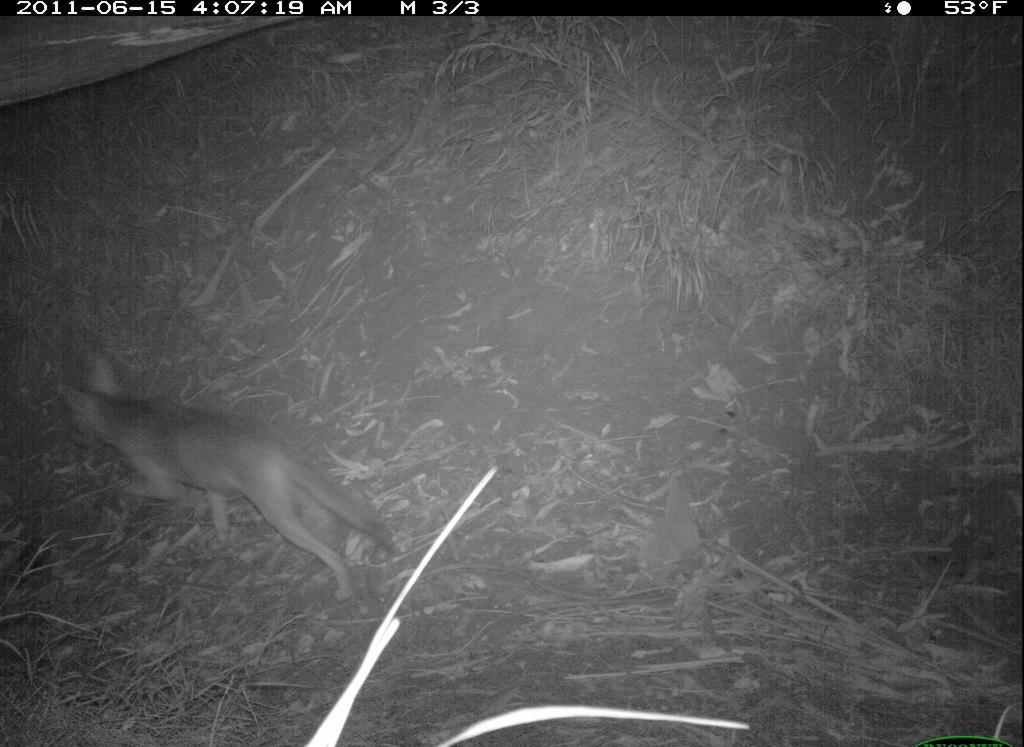coyote: (46, 347, 403, 613)
